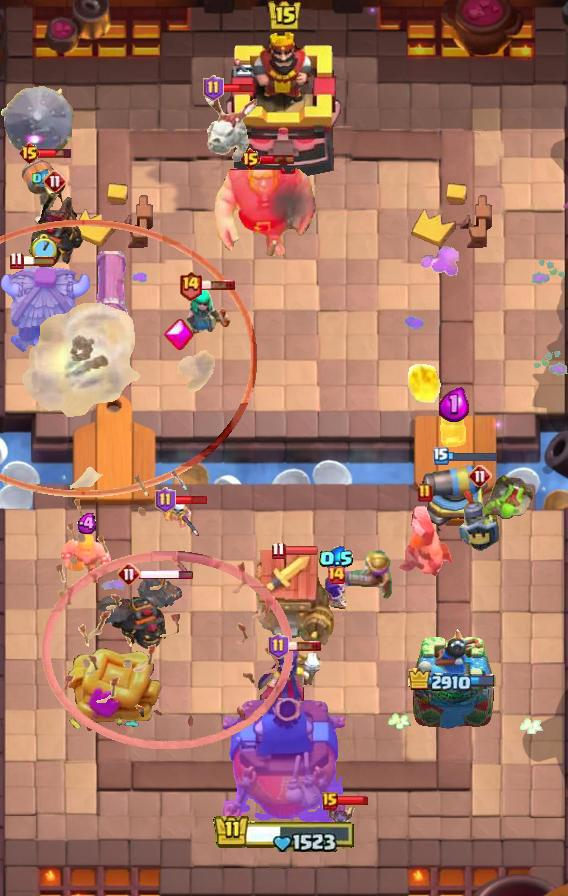archer: (59, 531, 117, 583)
archer-evolution: (98, 572, 188, 652), (25, 190, 85, 270)
axe: (255, 646, 331, 708)
balloon: (211, 158, 317, 256)
bar-level: (478, 472, 536, 520)
barbarian-barrel: (326, 804, 356, 828)
battle-healer: (88, 251, 134, 355)
bomb-tower: (335, 550, 393, 600)
clock: (213, 811, 355, 852)
electro-spirit: (439, 387, 469, 421), (318, 546, 353, 572), (77, 513, 99, 534), (32, 169, 54, 188)
elixir: (31, 234, 58, 264)
emote: (139, 567, 194, 581), (446, 450, 498, 462), (260, 153, 296, 165), (21, 255, 57, 267), (200, 279, 236, 291), (286, 640, 322, 652), (222, 82, 257, 94), (39, 147, 74, 159), (174, 494, 209, 506), (283, 544, 319, 555), (335, 794, 369, 805)
executioner: (438, 395, 470, 453)
goblin: (323, 573, 349, 609)
heal-spirit: (162, 497, 192, 529)
king-tower: (224, 29, 344, 181), (223, 698, 345, 826)
knight: (19, 157, 67, 227)
mighty-miner: (396, 506, 454, 578)
mini-pekka: (199, 87, 259, 169)
prince: (0, 265, 94, 355)
princess: (458, 488, 502, 554)
queen-tower: (411, 627, 495, 731)
royal-ghost: (0, 220, 256, 497)
royal-recruit: (418, 461, 492, 531)
selected: (408, 669, 498, 696)
skeleton-barrel: (42, 469, 295, 749)
skeleton-king-skill: (162, 318, 194, 352)
sparky: (248, 549, 334, 647)
text: (178, 270, 202, 301), (43, 169, 67, 193), (468, 464, 492, 488), (117, 562, 141, 586), (19, 141, 42, 165), (239, 147, 262, 171), (204, 75, 225, 101), (156, 487, 177, 513), (268, 633, 289, 659), (326, 565, 346, 585), (417, 483, 433, 503), (433, 447, 449, 465), (322, 792, 338, 810), (271, 540, 286, 559), (9, 251, 23, 270)
valkyrie: (404, 358, 442, 406)
witch: (184, 287, 232, 335)
x-bow: (0, 85, 80, 165)
